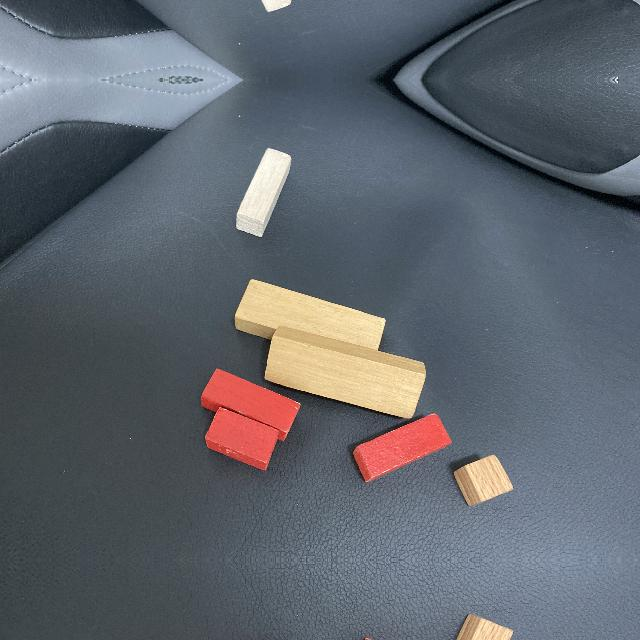block: (236, 147, 292, 238)
cube: (453, 454, 515, 507), (456, 613, 515, 640)
jenga: (264, 326, 426, 419), (234, 279, 386, 350)
red block: (201, 368, 301, 441), (353, 413, 452, 483), (205, 406, 279, 471)
